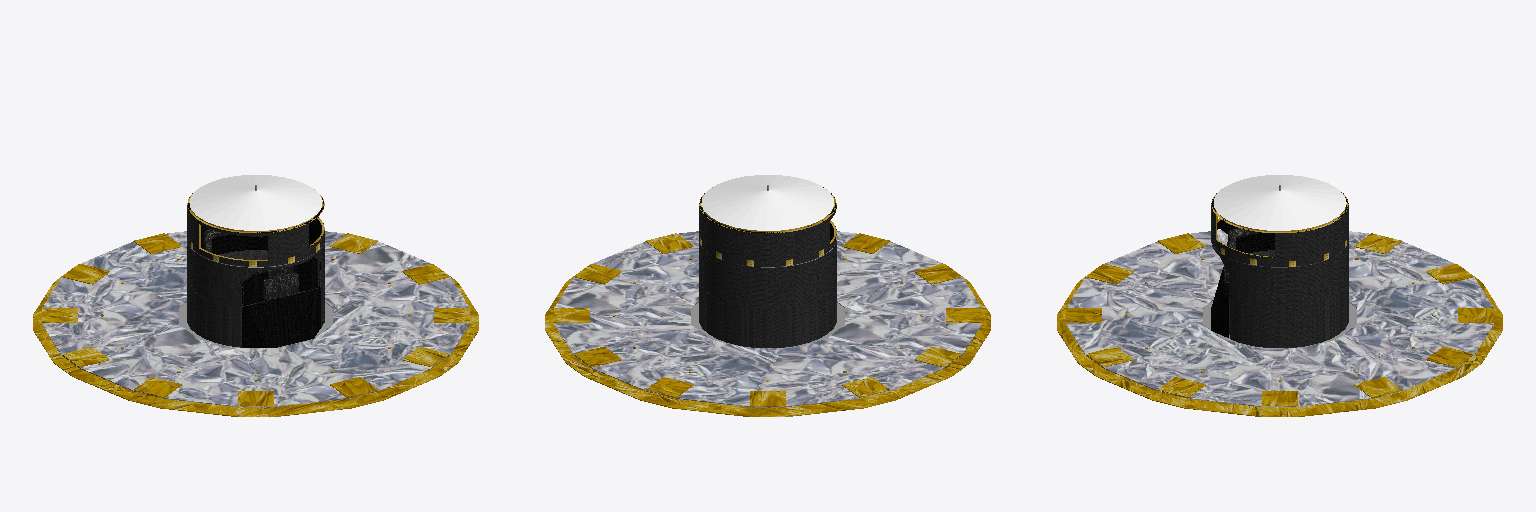
The picture shows the model from 3 angles: view 1: azimuth 30°, elevation 25°; view 2: azimuth 150°, elevation 25°; view 3: azimuth 270°, elevation 25°; orthographic projection.
Visible parts, largest first — view 1: Sunshield-top_Circle.000, GoldenSquares_Cube, Top_Circle.001, Sunshield-bottom_Circle.003, TTS_Cylinder, Instr1_Cube.002, ServiceModule-bottom_Cylinder.004, TTS-inner_Cylinder.002, Plane_Plane.001, Instr2_Cube.003, Hook-tex_Cylinder.003, GoldenBorders_Cylinder.001; view 2: Sunshield-top_Circle.000, TTS_Cylinder, GoldenSquares_Cube, Top_Circle.001, Sunshield-bottom_Circle.003, ServiceModule-bottom_Cylinder.004, Hook-tex_Cylinder.003, Floor_Circle.004; view 3: Sunshield-top_Circle.000, TTS_Cylinder, GoldenSquares_Cube, Top_Circle.001, Sunshield-bottom_Circle.003, ServiceModule-bottom_Cylinder.004, Hook-tex_Cylinder.003, Instr1_Cube.002, TTS-inner_Cylinder.002, Floor_Circle.004.
Part boxes in pixels (bbox=[...]): Sunshield-top_Circle.000: bbox=[42, 231, 469, 406]; GoldenSquares_Cube: bbox=[42, 233, 469, 405]; Top_Circle.001: bbox=[189, 175, 322, 230]; Sunshield-bottom_Circle.003: bbox=[33, 268, 478, 416]; TTS_Cylinder: bbox=[187, 193, 324, 306]; Instr1_Cube.002: bbox=[242, 288, 320, 347]; ServiceModule-bottom_Cylinder.004: bbox=[187, 250, 324, 347]; TTS-inner_Cylinder.002: bbox=[188, 209, 321, 269]; Plane_Plane.001: bbox=[242, 257, 319, 305]; Instr2_Cube.003: bbox=[263, 266, 298, 300]; Hook-tex_Cylinder.003: bbox=[187, 235, 324, 267]; GoldenBorders_Cylinder.001: bbox=[187, 189, 324, 260]; Sunshield-top_Circle.000: bbox=[554, 231, 981, 406]; TTS_Cylinder: bbox=[699, 187, 836, 307]; GoldenSquares_Cube: bbox=[554, 233, 981, 405]; Top_Circle.001: bbox=[701, 175, 834, 230]; Sunshield-bottom_Circle.003: bbox=[545, 268, 990, 416]; ServiceModule-bottom_Cylinder.004: bbox=[699, 281, 836, 347]; Hook-tex_Cylinder.003: bbox=[699, 226, 836, 267]; Floor_Circle.004: bbox=[691, 303, 844, 347]; Sunshield-top_Circle.000: bbox=[1066, 230, 1493, 406]; TTS_Cylinder: bbox=[1211, 193, 1348, 307]; GoldenSquares_Cube: bbox=[1066, 233, 1493, 405]; Top_Circle.001: bbox=[1214, 175, 1346, 230]; Sunshield-bottom_Circle.003: bbox=[1057, 268, 1502, 416]; ServiceModule-bottom_Cylinder.004: bbox=[1229, 250, 1348, 347]; Hook-tex_Cylinder.003: bbox=[1211, 235, 1348, 267]; Instr1_Cube.002: bbox=[1211, 267, 1228, 337]; TTS-inner_Cylinder.002: bbox=[1212, 209, 1347, 257]; Floor_Circle.004: bbox=[1203, 301, 1356, 347].
Bounding box in the file's own units: 1 × 0.3476 × 1.
17 materials, 10 textured.